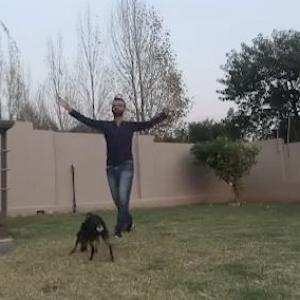takeoff: (50, 79, 178, 241)
